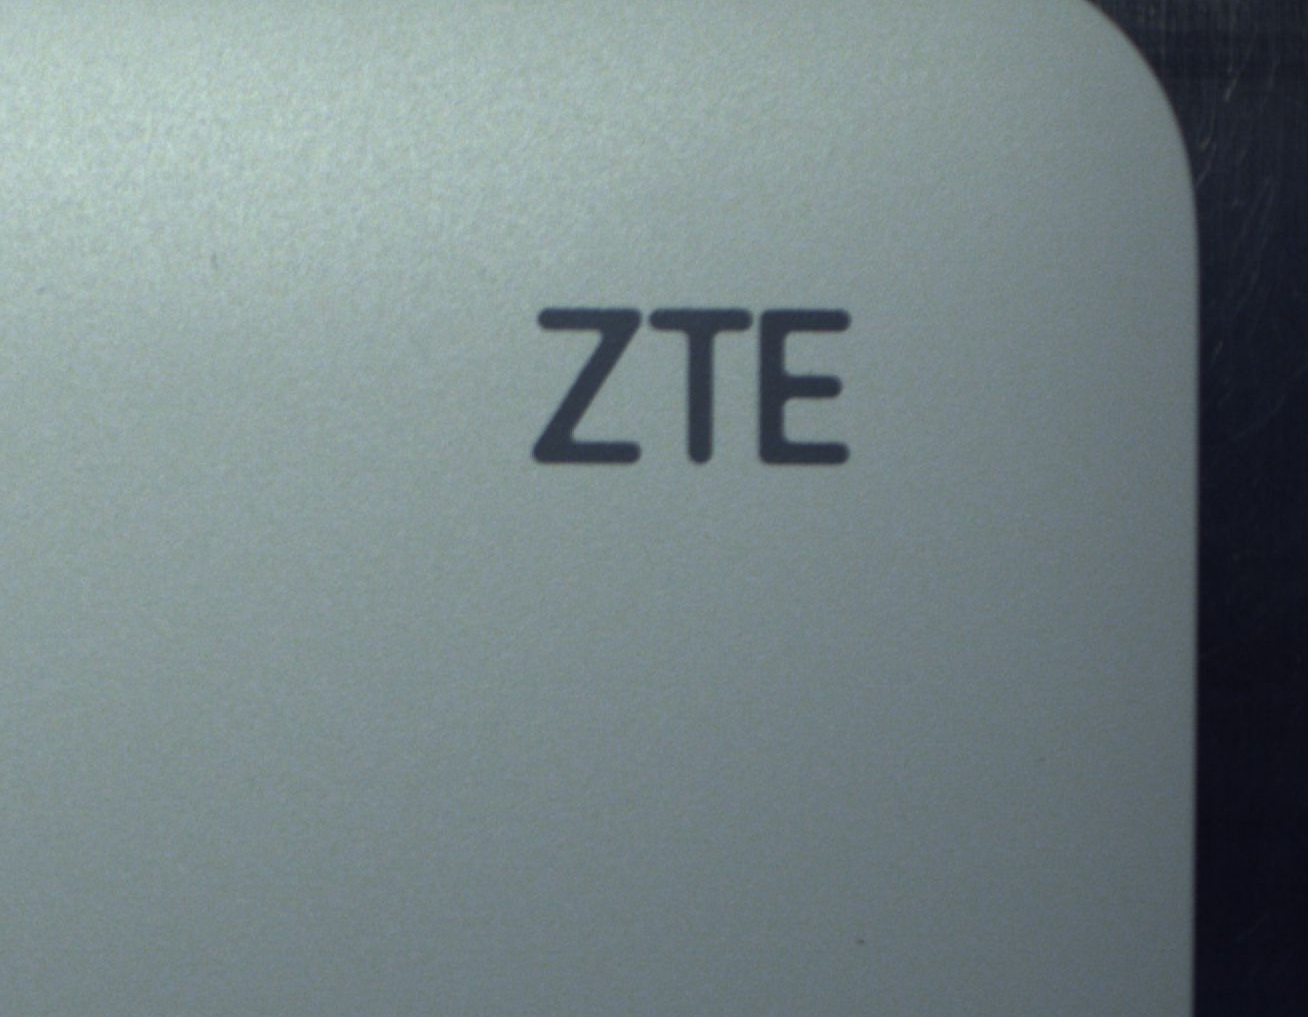AN_ZTE: (471, 280, 900, 483)
